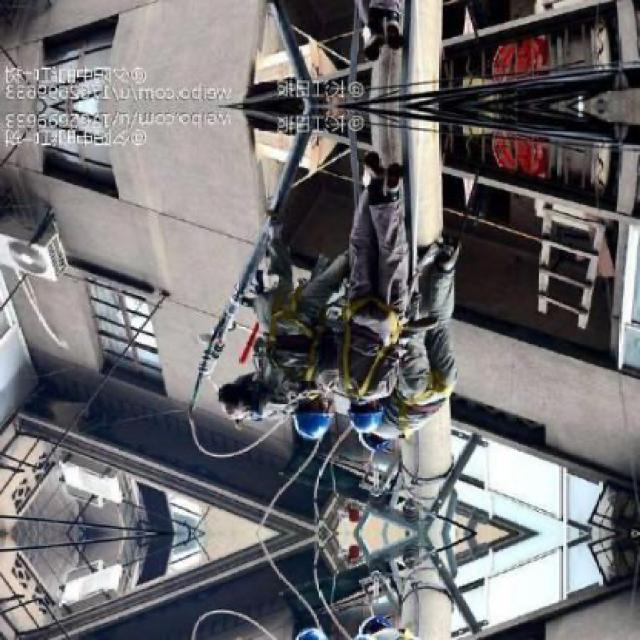con casco: (279, 407, 347, 452), (337, 392, 395, 444)
